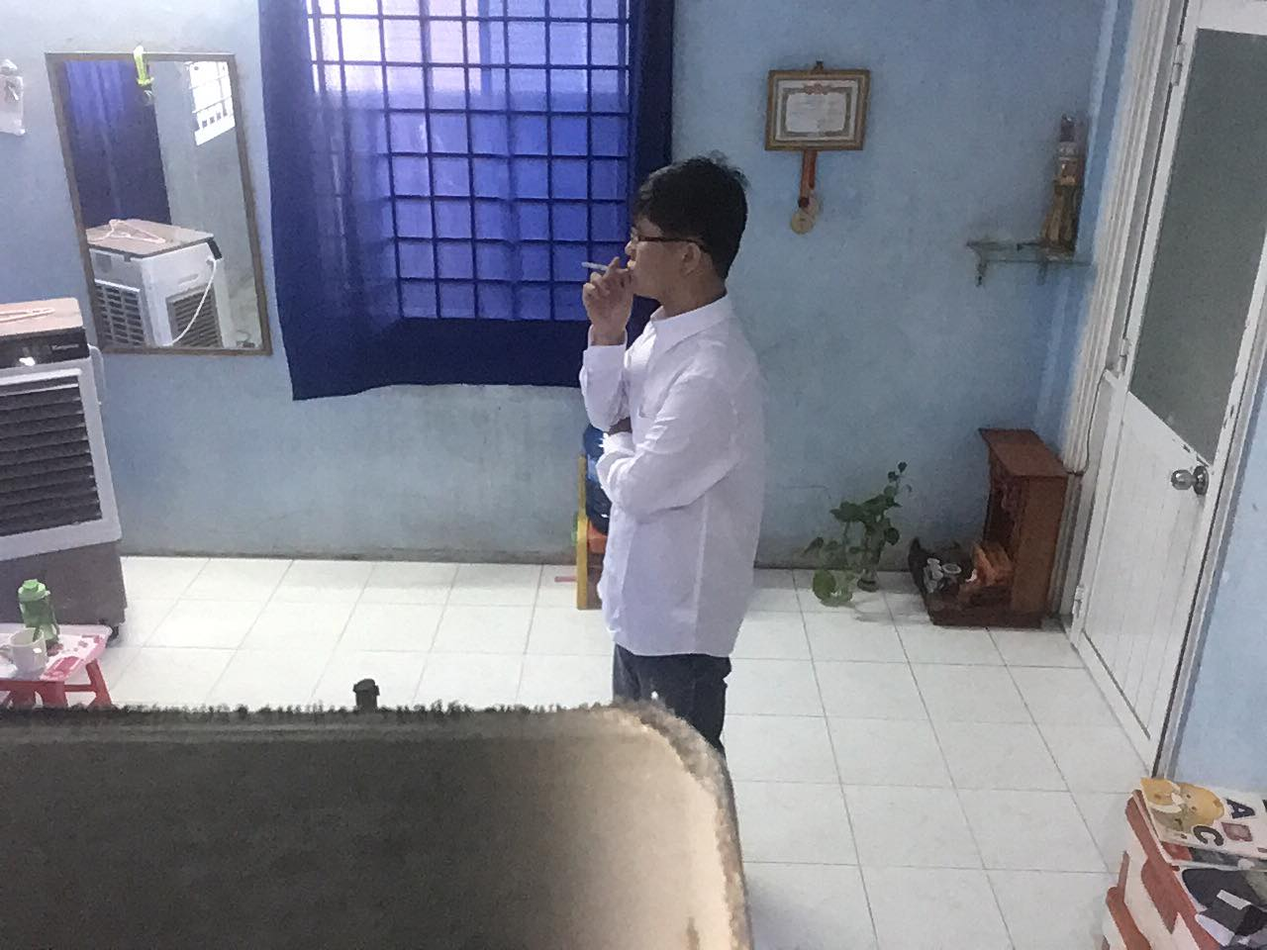cigarette: (577, 244, 629, 275)
person: (540, 152, 807, 744)
